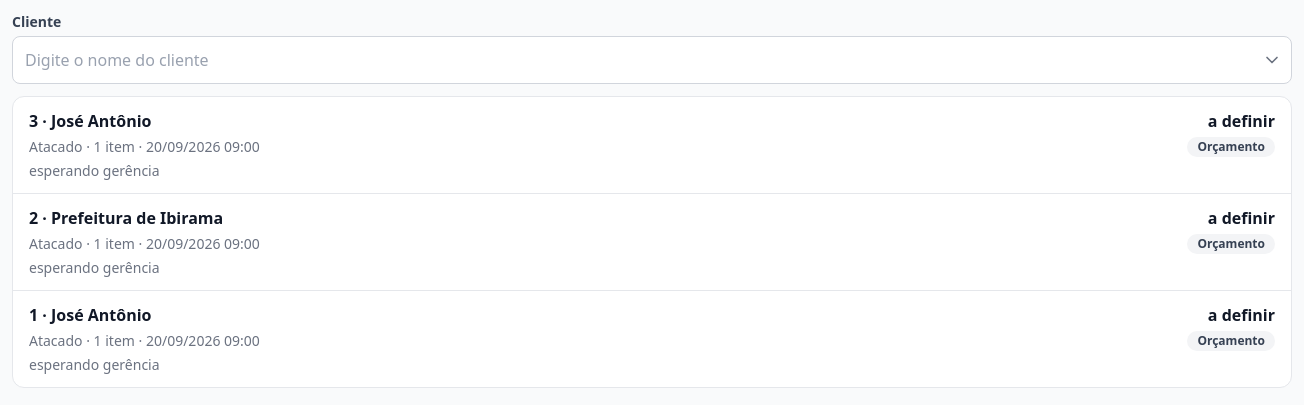
Test: ListaPedidos e o filtro de cliente (RF-60, TA-54) › texto que não acha ninguém diz que não há pedido desse cliente
In the field labelled "Cliente": point(652, 60) [12,36,1292,84], type "xyz"
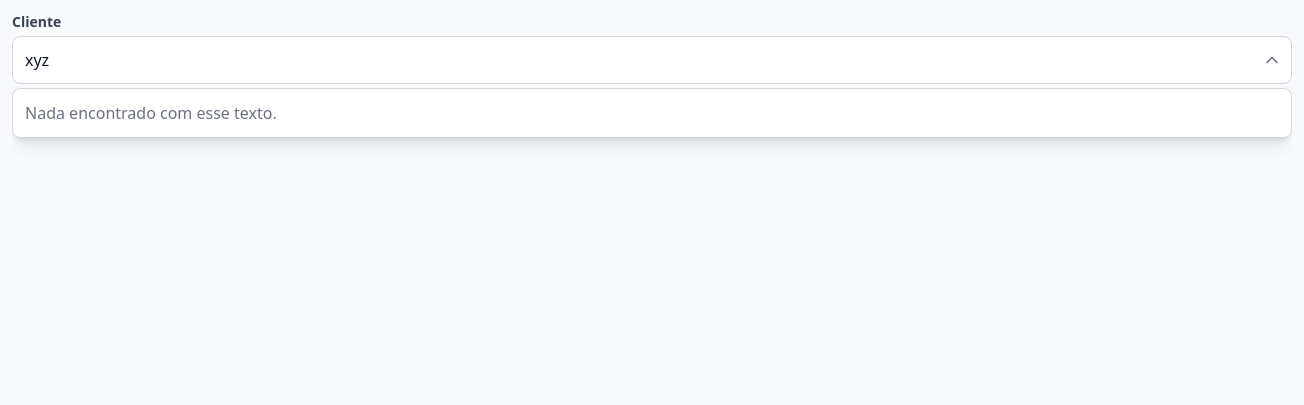
Result: the text "Nenhum pedido desse cliente." is shown at [12,97,240,119]
